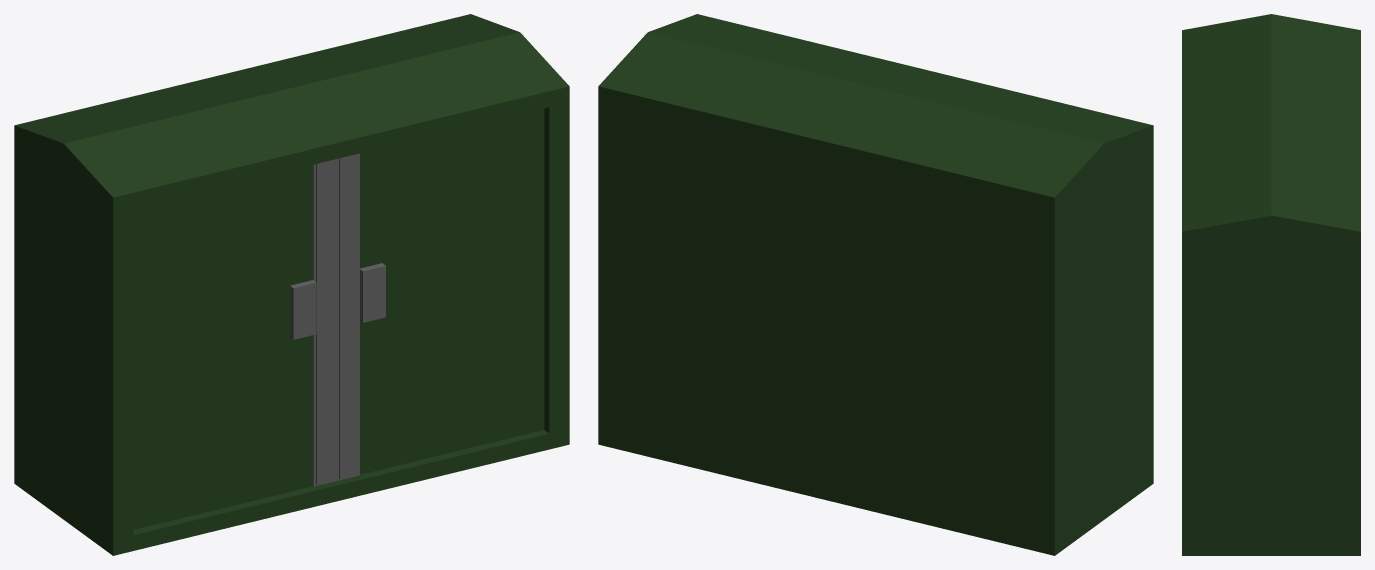
The model's file is JunctionBoxColoured.fbx.
The picture shows the model from 3 angles, left to right: view 1: azimuth 30°, elevation 25°; view 2: azimuth 150°, elevation 25°; view 3: azimuth 270°, elevation 25°; orthographic projection. The views are drawn at different scales.
Visible parts, largest first — view 1: Cube; view 2: Cube; view 3: Cube.
Boxes of the visible parts, x1,y1,x2,y2 form: Cube: [14, 14, 569, 555]; Cube: [598, 14, 1153, 555]; Cube: [1182, 14, 1360, 555].
Bounding box in the file's own units: 160 × 126 × 60.
